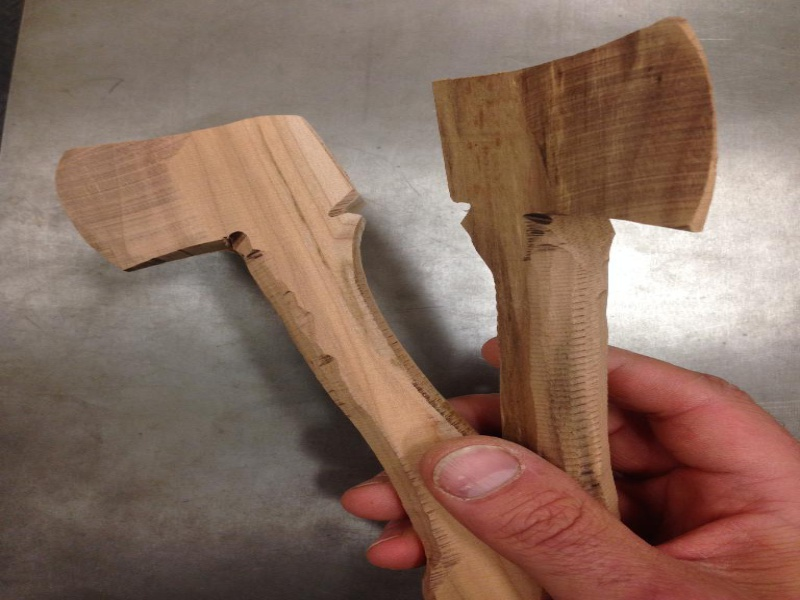axe: (409, 9, 726, 297), (48, 105, 382, 366)
